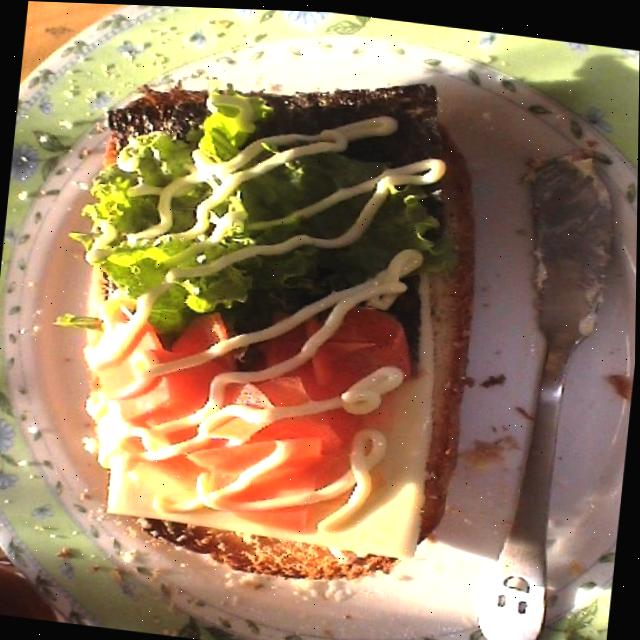面包点心: (58, 31, 500, 610)
